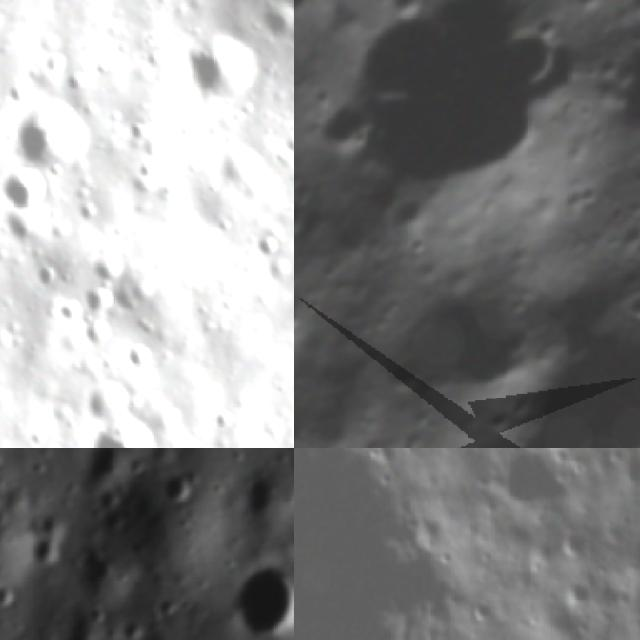crater: (294, 0, 599, 246), (363, 239, 577, 448), (294, 448, 488, 640), (444, 285, 640, 448), (573, 0, 640, 190), (178, 29, 258, 111), (491, 448, 572, 526), (228, 557, 294, 640), (15, 107, 92, 176), (296, 388, 372, 448), (226, 471, 292, 531), (73, 378, 135, 427), (294, 175, 329, 255), (0, 174, 51, 220), (70, 554, 120, 600), (84, 422, 164, 448), (157, 466, 200, 514), (23, 534, 67, 578), (560, 575, 602, 618), (81, 282, 118, 328), (558, 522, 594, 568), (74, 323, 114, 358), (120, 343, 154, 377), (248, 231, 284, 263), (294, 293, 309, 342)
